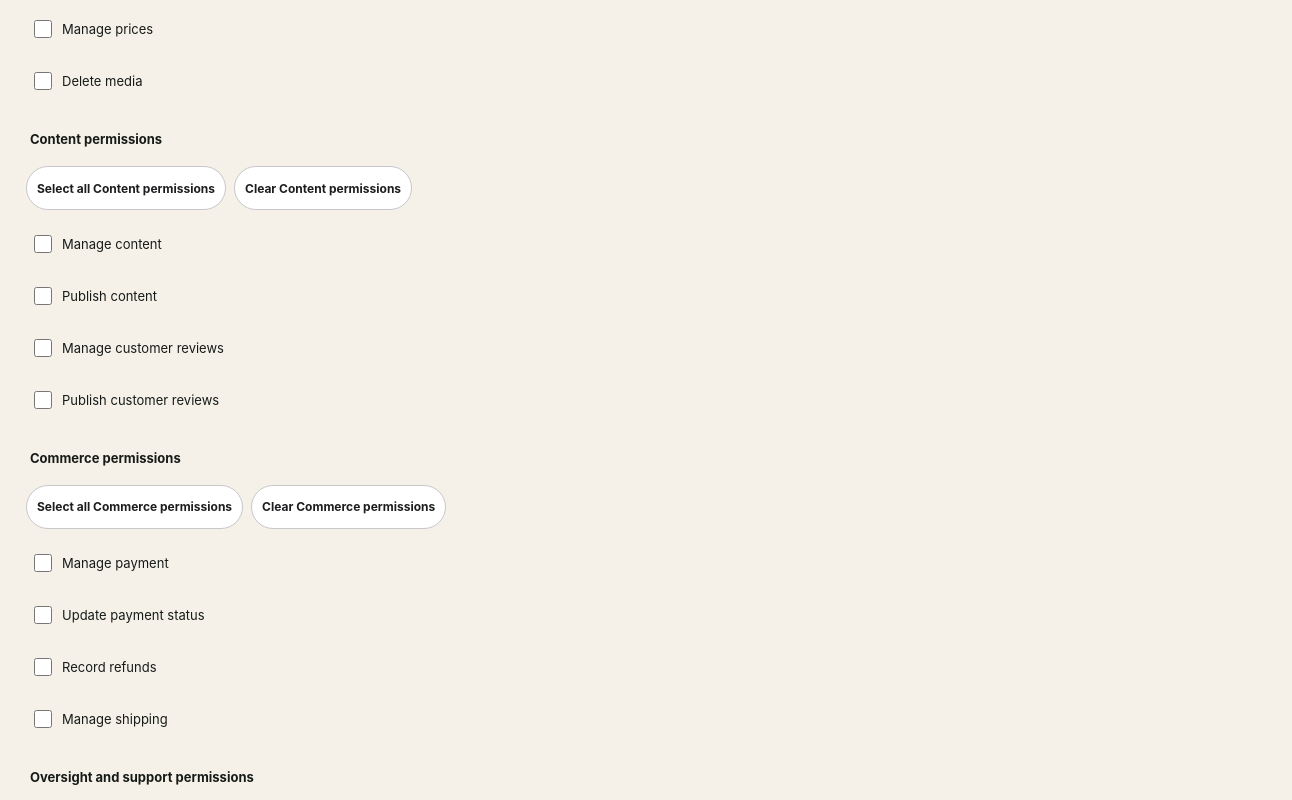
Test: EmployeeAccessFields › shows independent customer review management and publishing permissions
The image size is (1292, 800).
(page scrolled)
Expected: the checkbox labelled "Manage customer reviews" is shown, [34,339,52,357]
Click the checkbox labelled "Publish customer reviews".
click(43, 400)  # box [34,391,52,409]
(page scrolled)
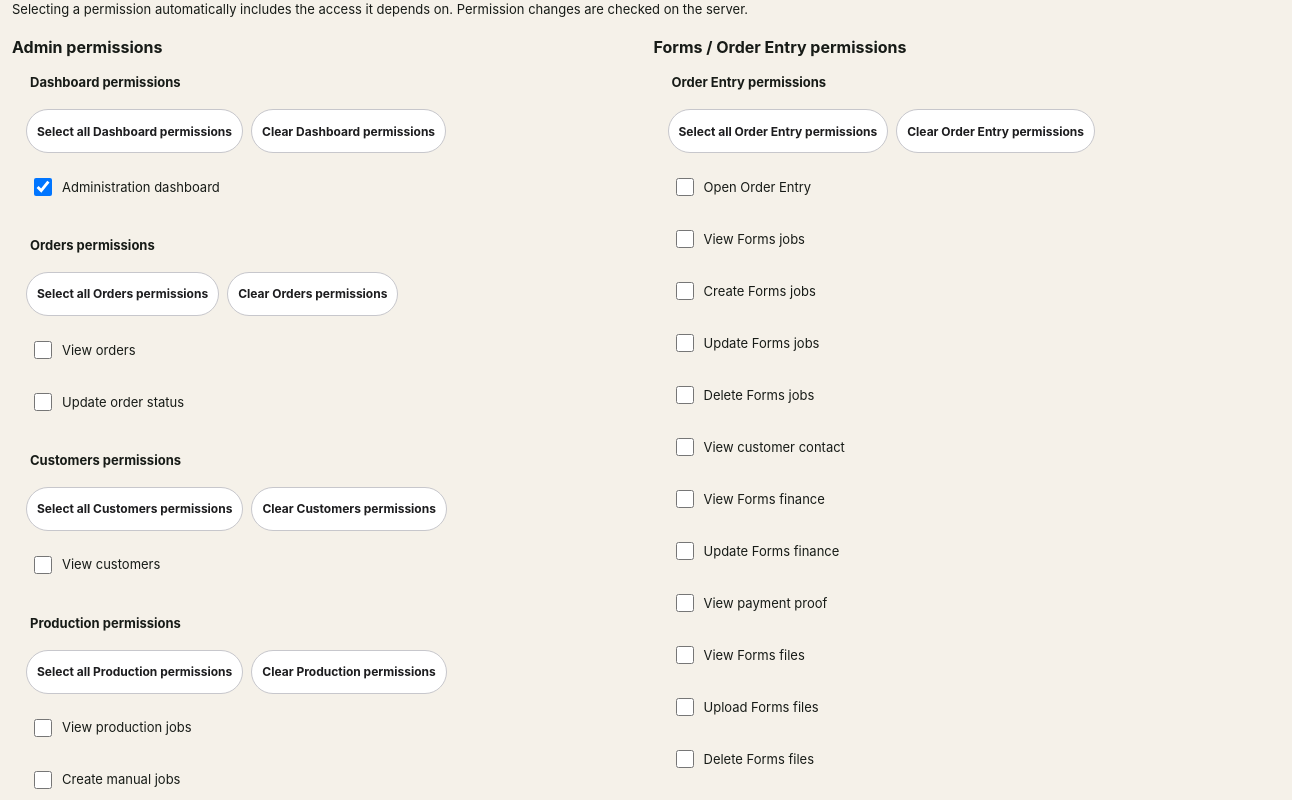
Now the checkbox labelled "Administration dashboard" is checked, box [34,178,52,196]
